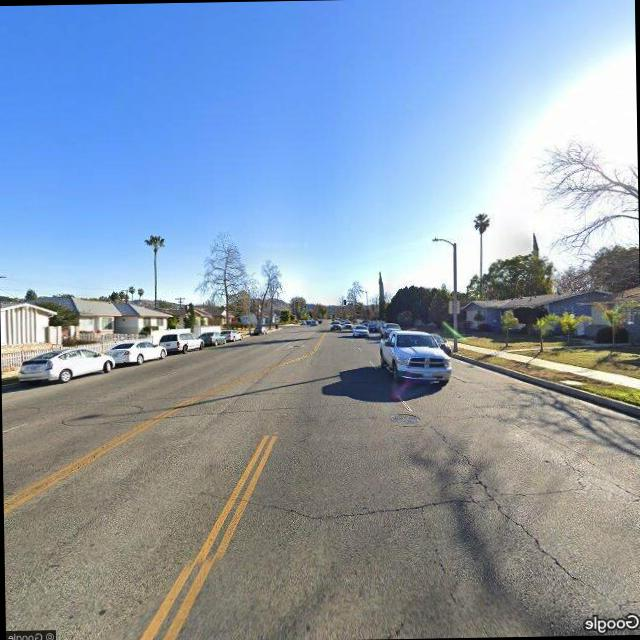crack: (428, 413, 616, 596), (182, 470, 610, 525)
